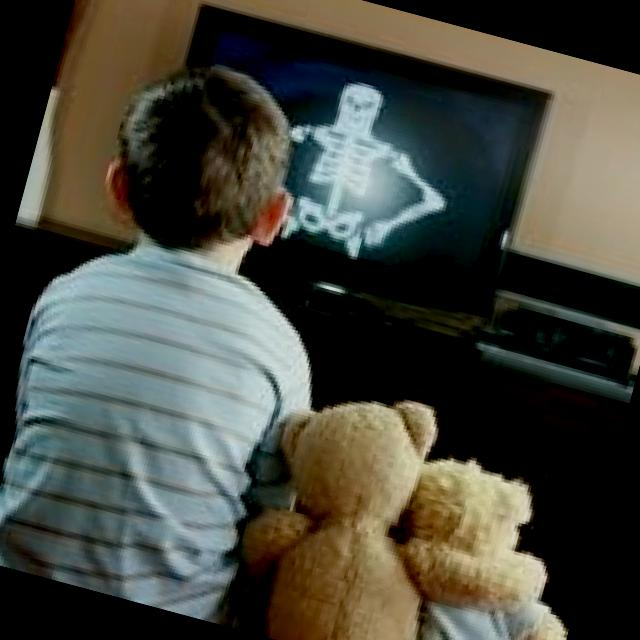no_vest: (0, 198, 363, 637)
